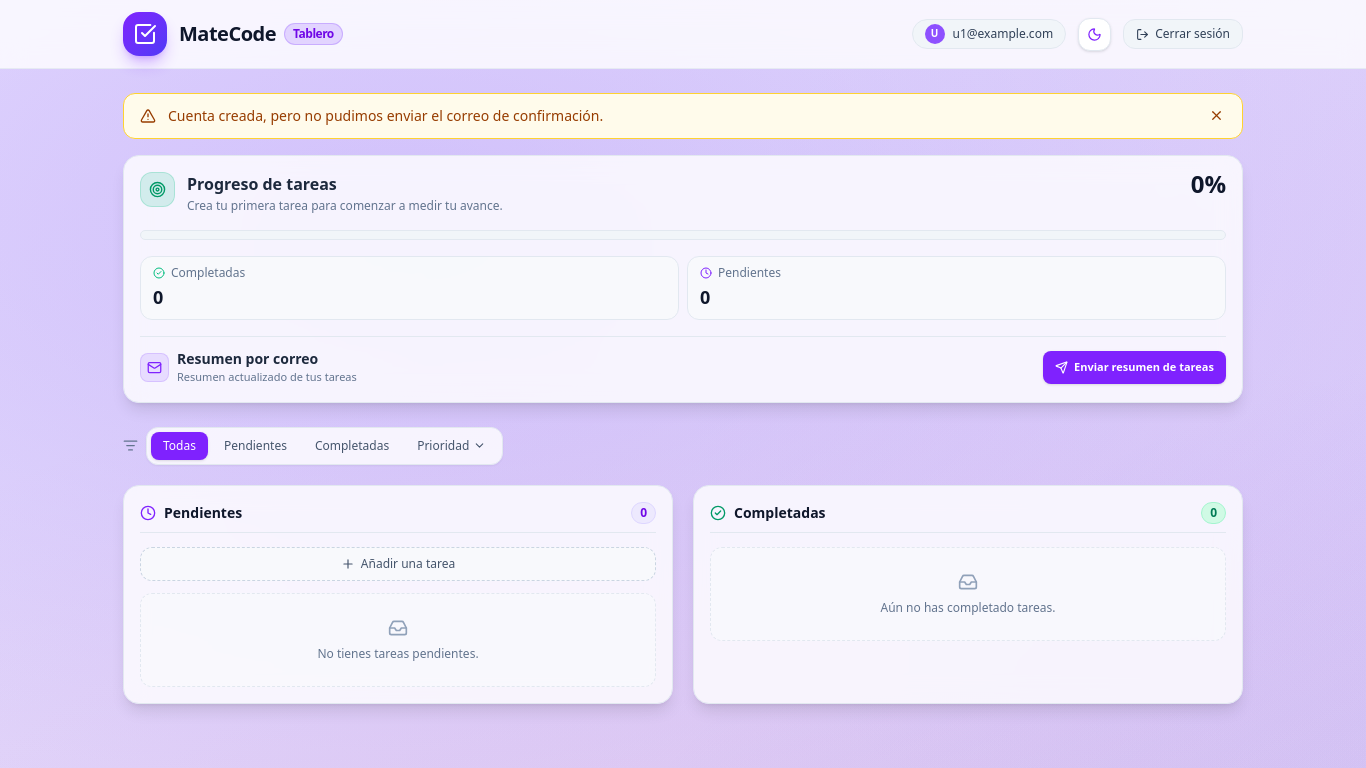
Test: TasksPage - aviso de navegación › permite descartar el aviso
Click the button named "descartar aviso": (1216, 116) [1207,106,1226,125]
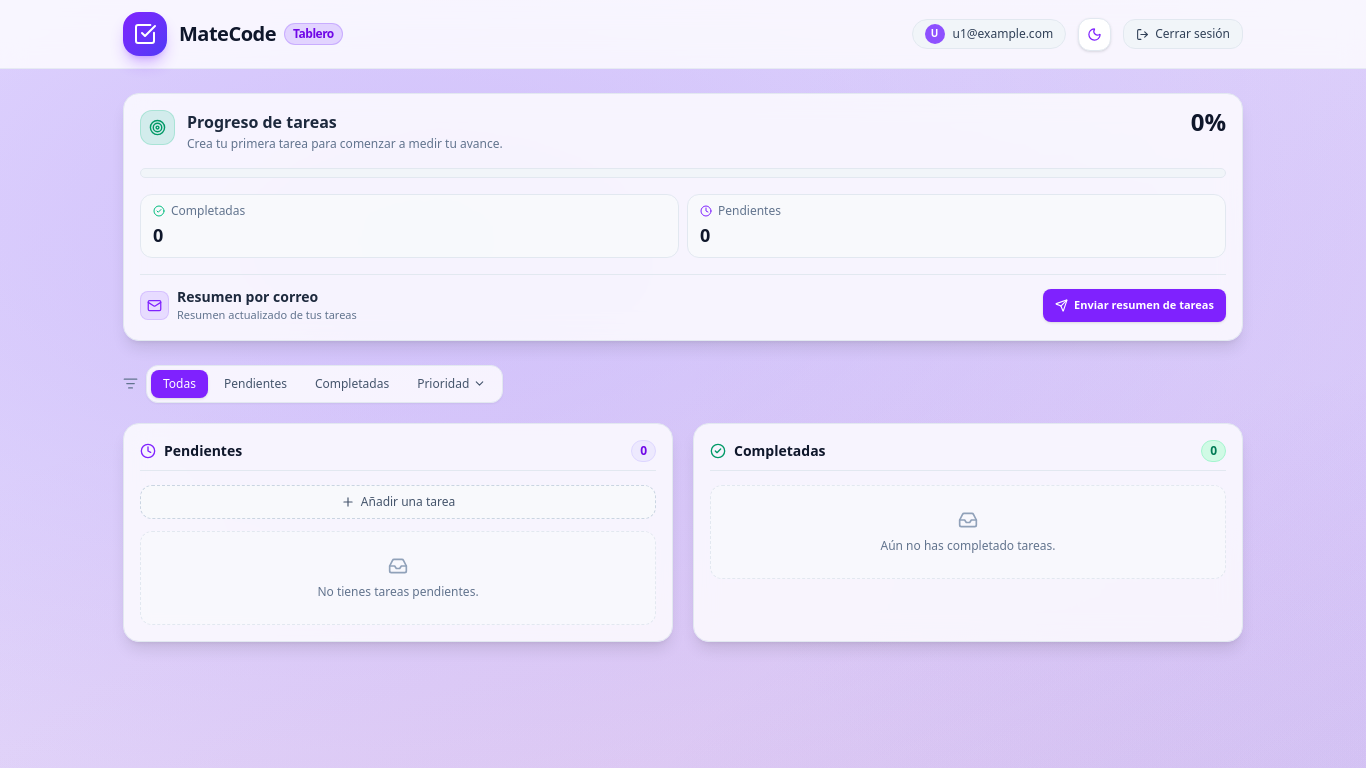
expect the text "Cuenta creada, pero no pudimos enviar el correo de confirmación." is gone: met
